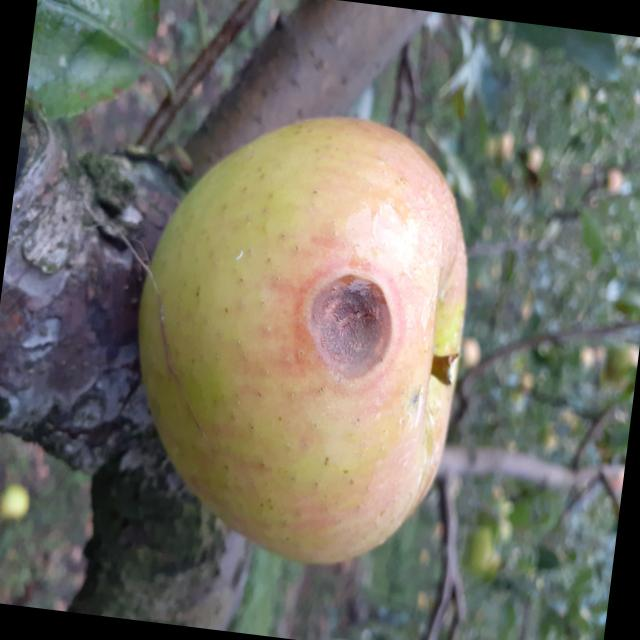rotten: (100, 86, 501, 594)
